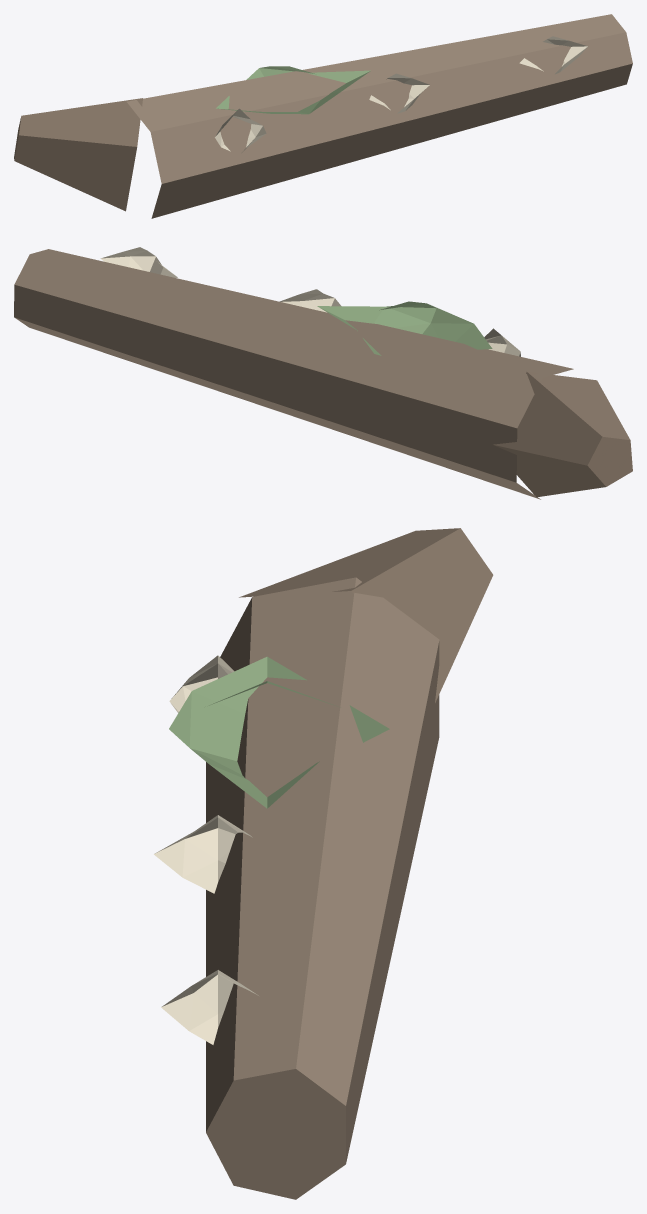
File: log_v37.glb
The picture shows the model from 3 angles, top to bottom: view 1: azimuth 30°, elevation 25°; view 2: azimuth 150°, elevation 25°; view 3: azimuth 270°, elevation 25°; orthographic projection. The views are drawn at different scales.
Parts seen in each view (by area): view 1: lod0; view 2: lod0; view 3: lod0.
Part boxes in pixels (bbox=[...]): lod0: bbox=[14, 14, 632, 218]; lod0: bbox=[14, 247, 632, 499]; lod0: bbox=[154, 528, 493, 1199].
Size of what is drawn, in the model's own units: 2.56 by 0.5415 by 0.6634.
